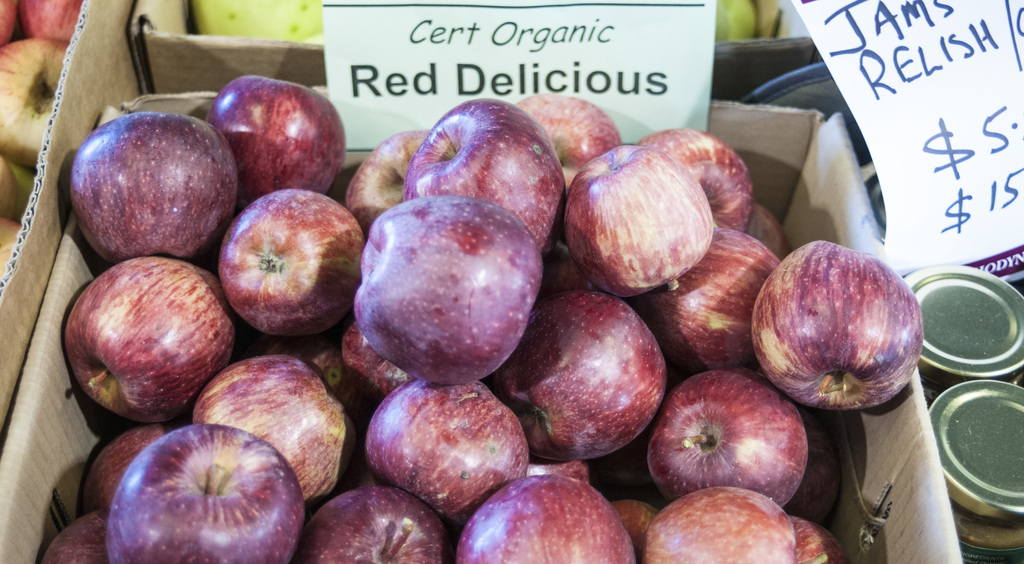Apple: (40, 71, 851, 563), (752, 237, 924, 409), (218, 186, 368, 350), (0, 35, 66, 158), (19, 0, 82, 40), (0, 215, 20, 288), (0, 154, 17, 215), (0, 0, 16, 44)
